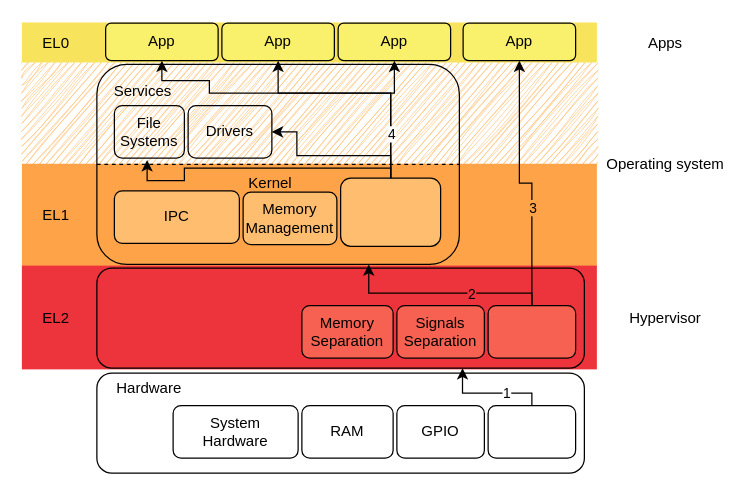
This 755x501 diagram has some shape labels left out. The centre of each missing label's shape, as x and y in pixels:
Context Separation: (x=531, y=331)
CPU: (x=531, y=431)
CPU Management: (x=390, y=211)
